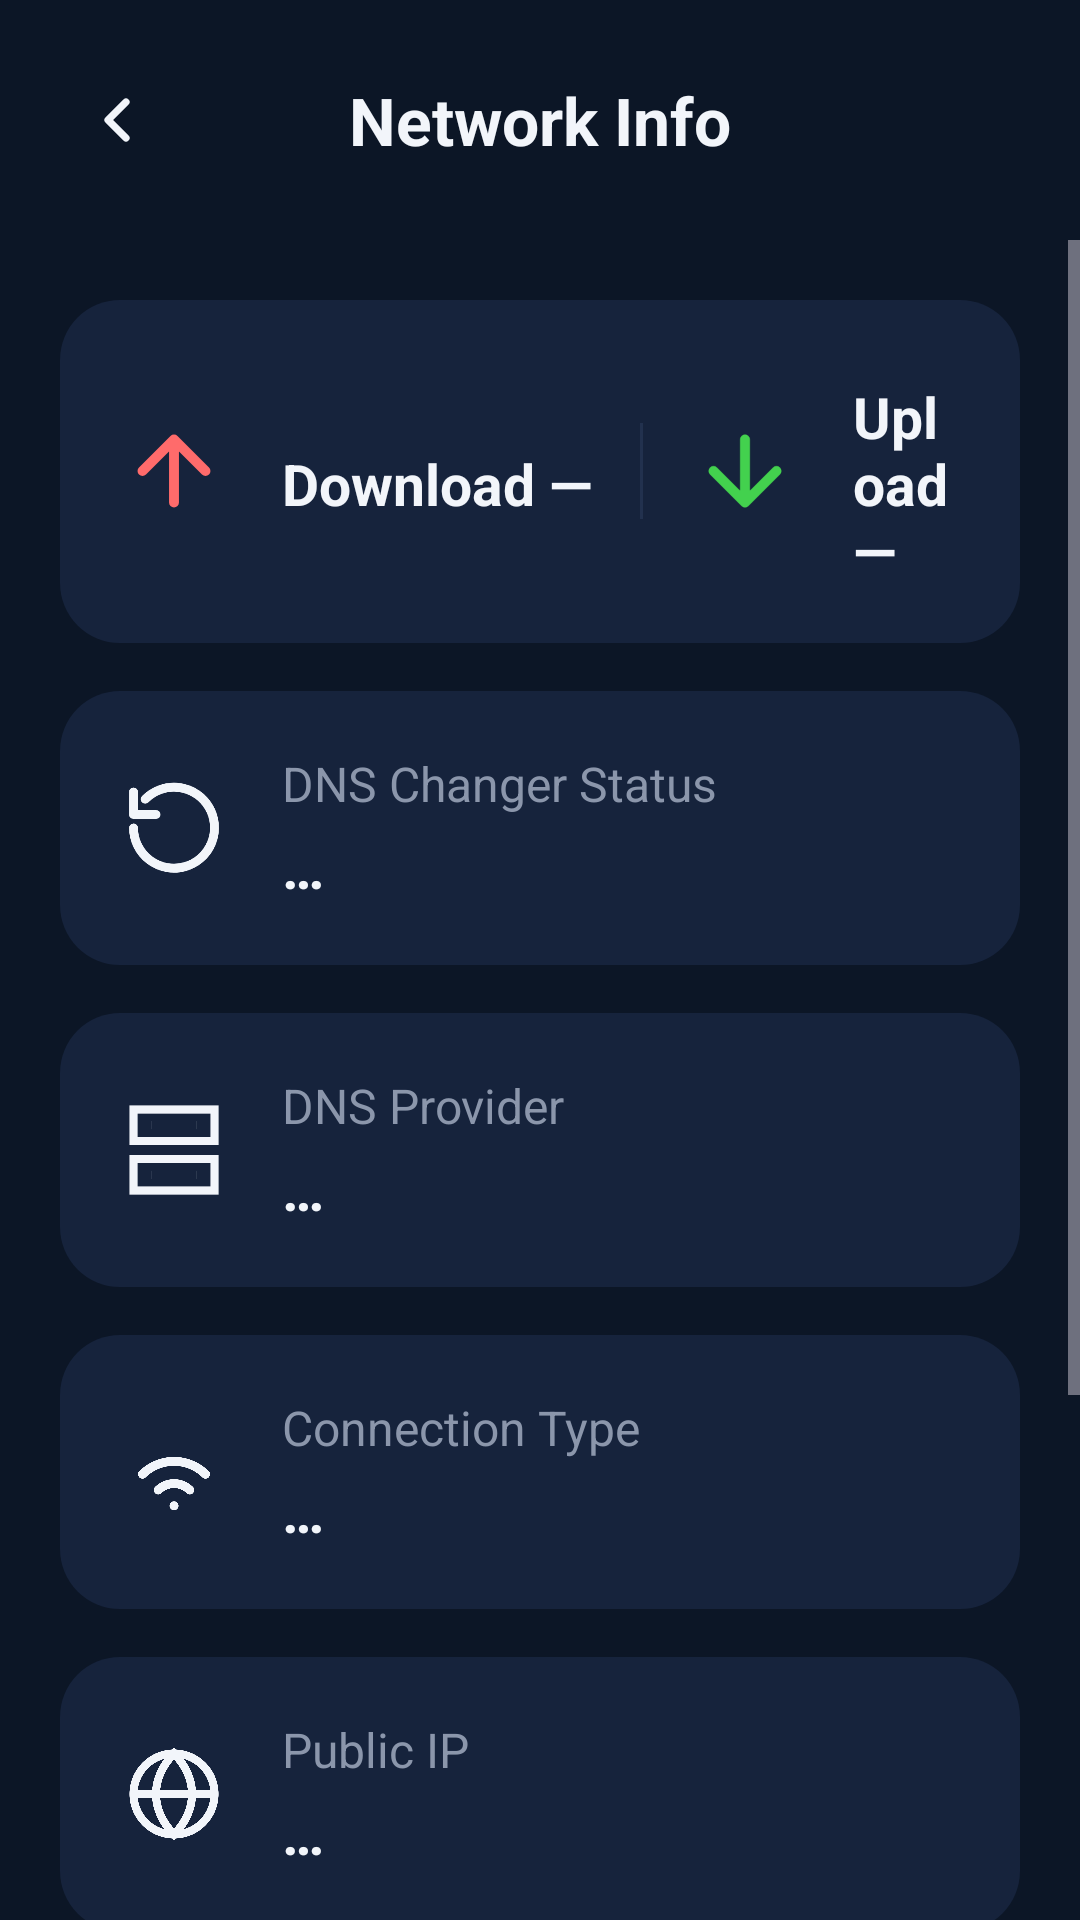

Screen size 1080px x 1920px. Icon name, then its center in pixels as (x=x, y=y):
arrow down: (x=745, y=471)
arrow up: (x=174, y=471)
back: (x=117, y=120)
globe: (x=174, y=1794)
restart: (x=174, y=827)
wifi: (x=174, y=1483)
